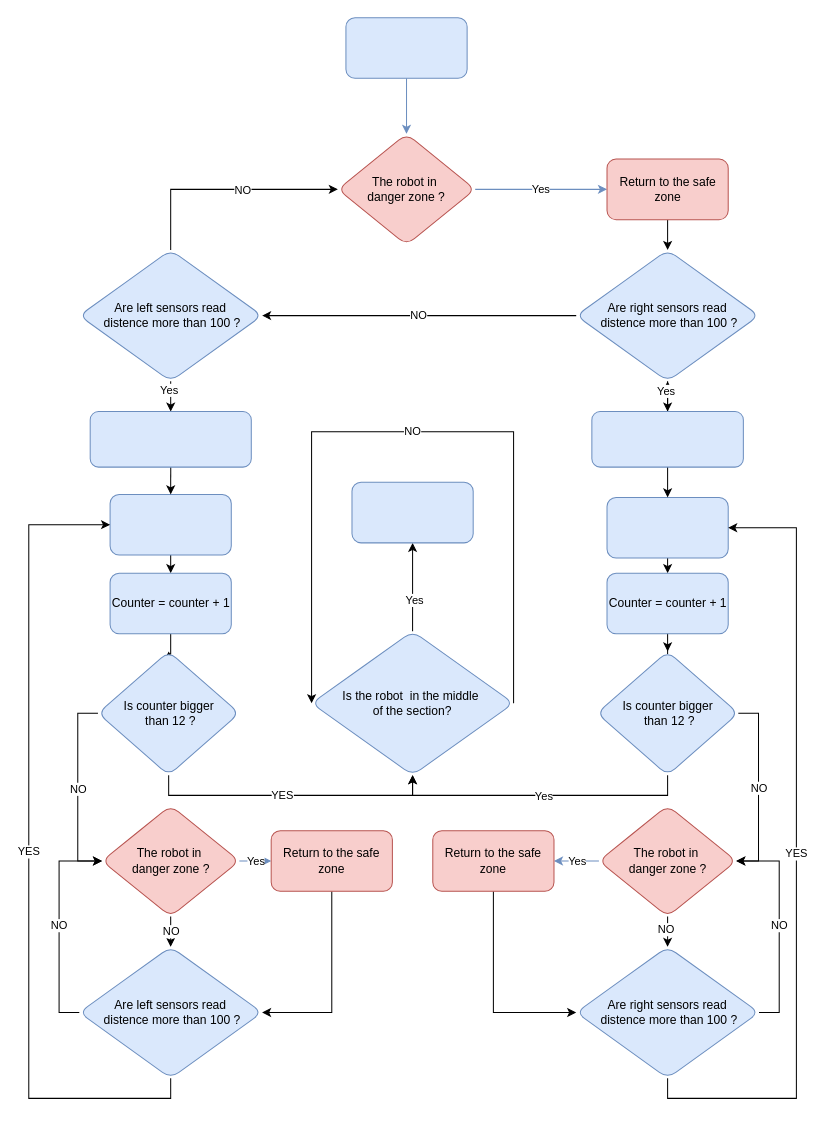
The diagram is 824 pixels wide and 1124 high, and some of its shapes have lost their labels. Here are the shapes that lost their labels. From the top down, the centre of each, then its label:
point (406, 47): start
point (170, 439): counter_clockwise = True
point (667, 439): clockwise = True
point (170, 524): Turn left
point (412, 512): Stop
point (667, 527): Turn right
